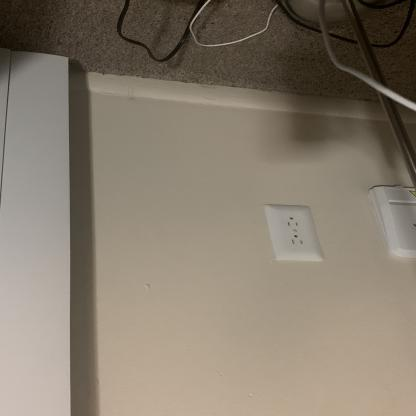OUTLET: (264, 204, 317, 262)
